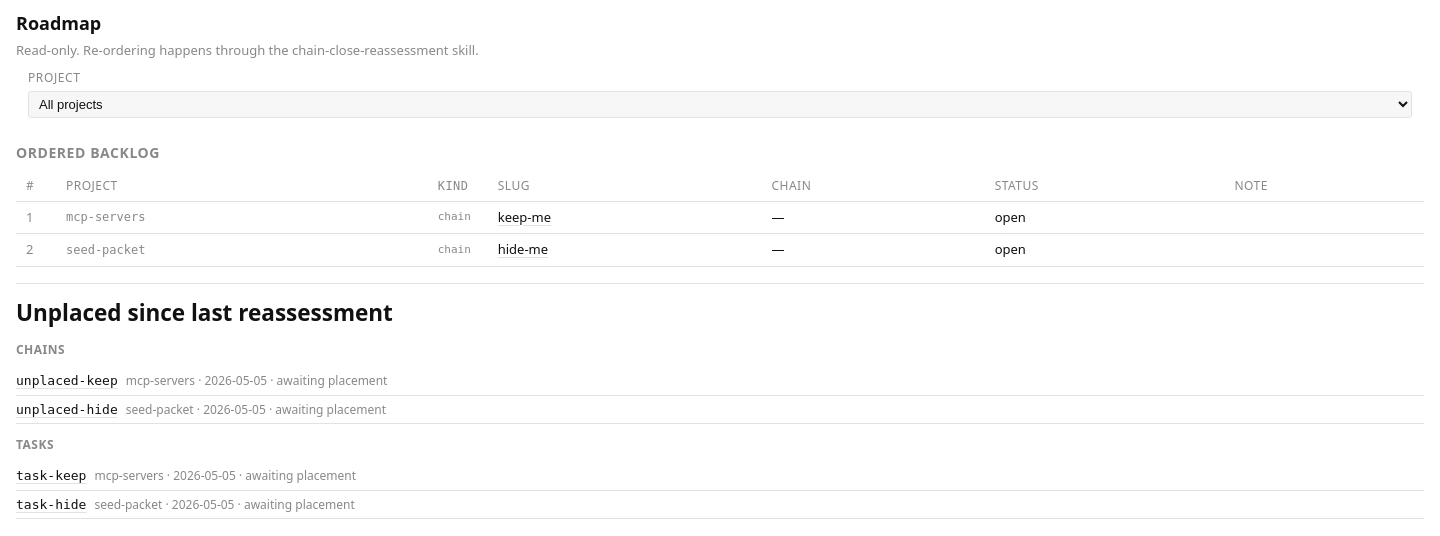
it: RoadmapPage › filters both panels by the project picker selection
Expected: the number of rows with test id "roadmap-row" is 2, [16,201,1424,234]; [16,234,1424,266]
Select "mcp-servers" in the dropdown with test id "project-picker-select" at [720, 104], box [28,90,1412,118]
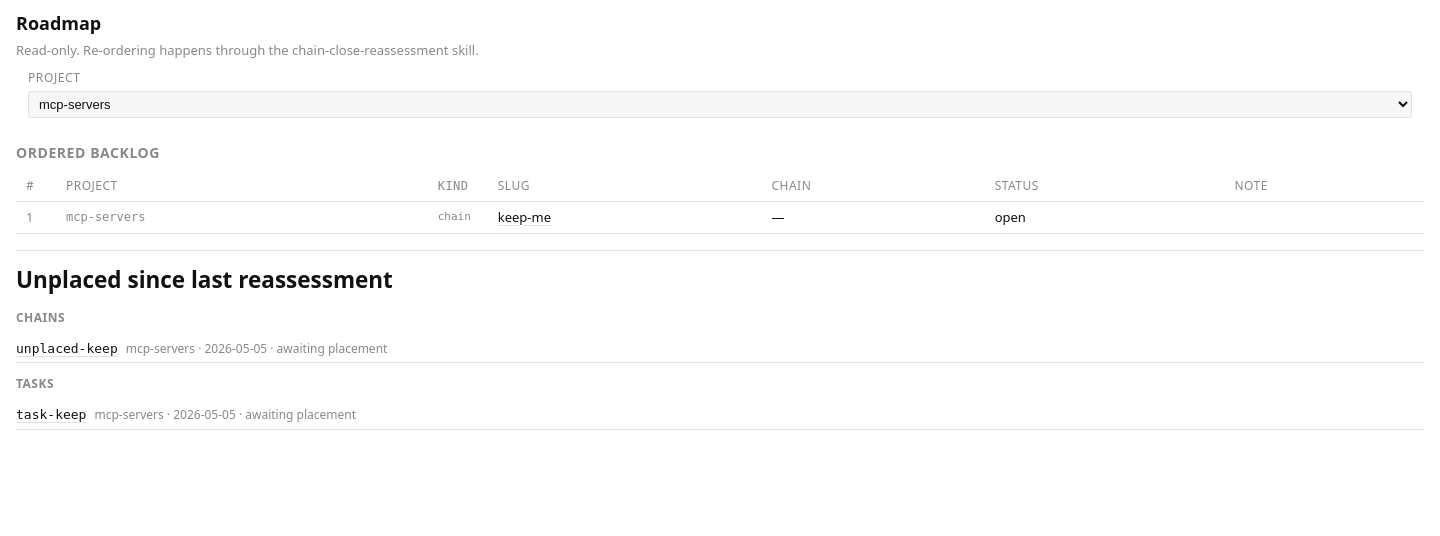
Expected: the number of rows with test id "roadmap-row" is 1, [16,201,1424,234]
Expected: the number of list items with test id "roadmap-diff-chain" is 1, [16,335,1424,363]
Expected: the number of list items with test id "roadmap-diff-task" is 1, [16,401,1424,430]
